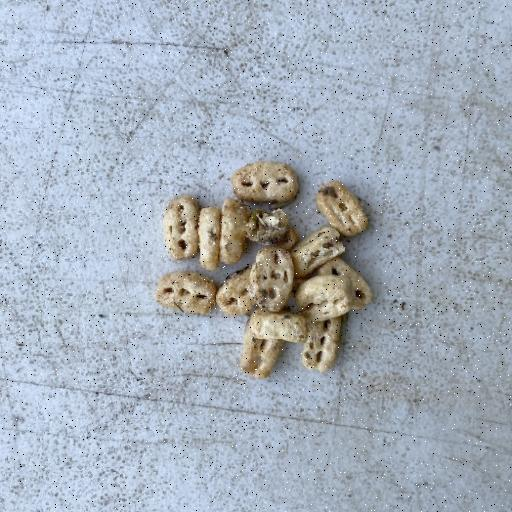Waste: (154, 158, 374, 380), (230, 159, 300, 206), (314, 178, 368, 238), (153, 270, 217, 316)
